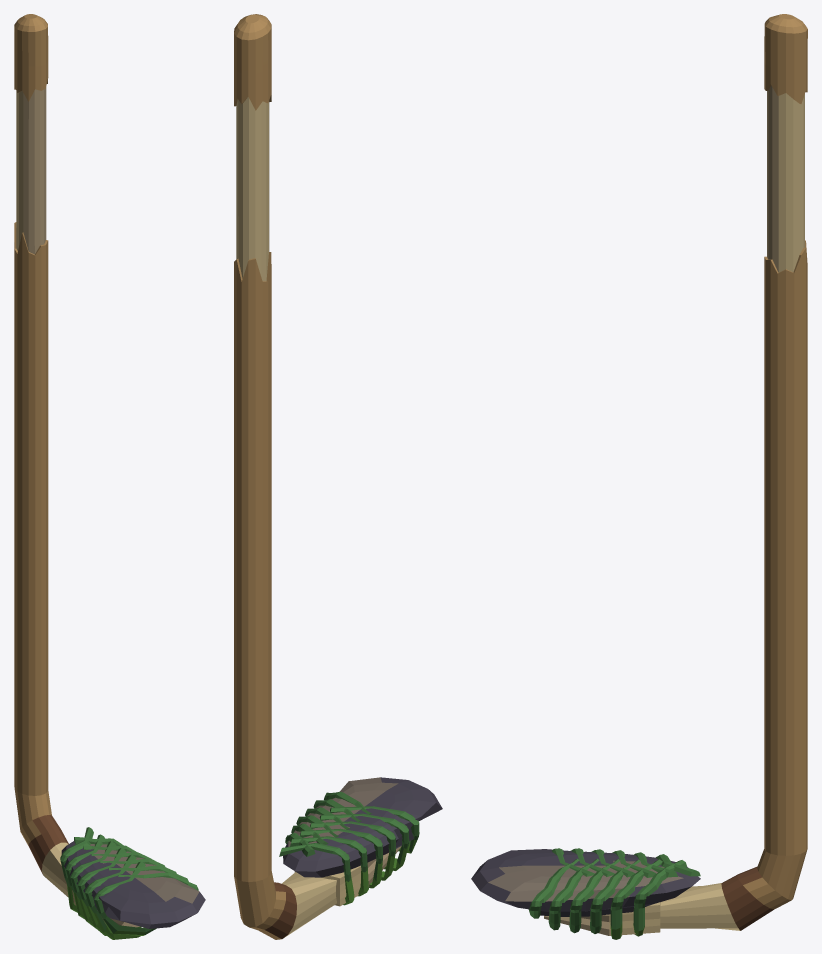
File: primitive_hoe.glb
The picture shows the model from 3 angles, left to right: view 1: azimuth 30°, elevation 25°; view 2: azimuth 150°, elevation 25°; view 3: azimuth 270°, elevation 25°; orthographic projection. The views are drawn at different scales.
Parts seen in each view (by area): view 1: PrimitiveHoe; view 2: PrimitiveHoe; view 3: PrimitiveHoe.
Boxes of the visible parts, x1,y1,x2,y2 form: PrimitiveHoe: (14, 14, 205, 939); PrimitiveHoe: (234, 14, 442, 939); PrimitiveHoe: (471, 14, 807, 939).
Size of the model in its own units: 0.0924 by 0.7963 by 0.2655.
